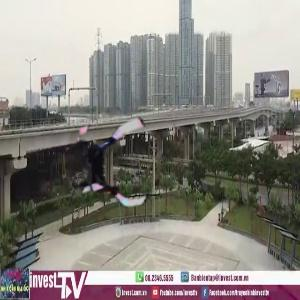drone: (64, 117, 164, 217)
